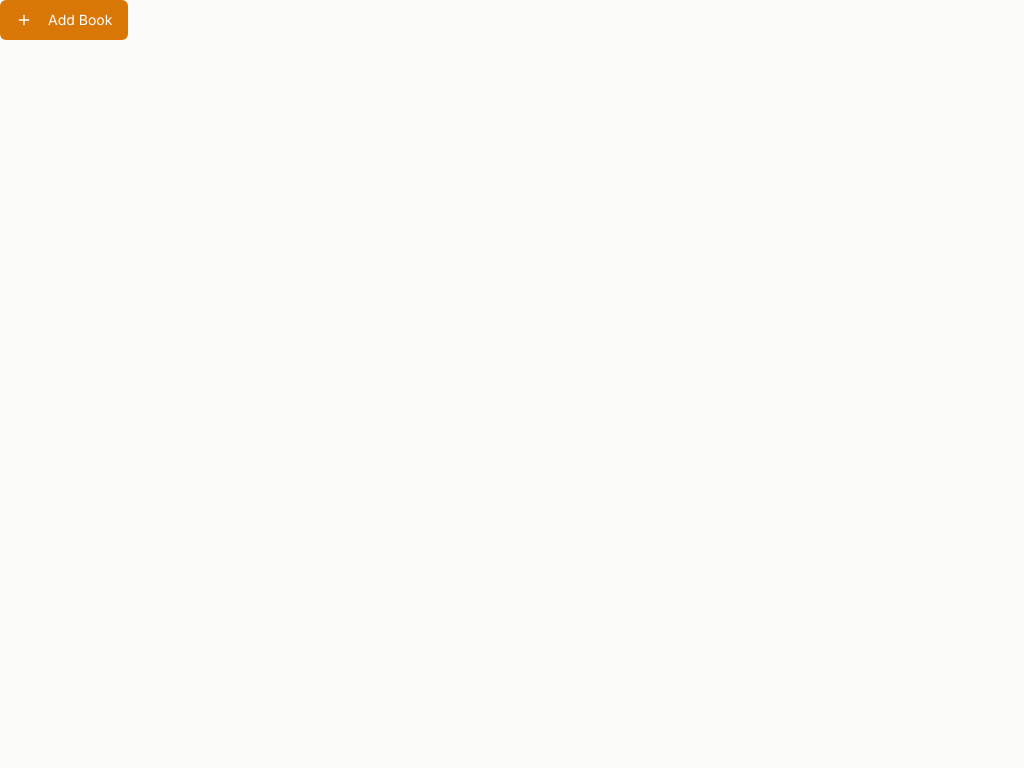
Scenario: AddBookDialog › opens dialog, filters books by search term, and triggers onAddBook
Later steps or results of the test are not shown.
Click the button "Add Book".
click(64, 20)  # box [0,0,128,40]
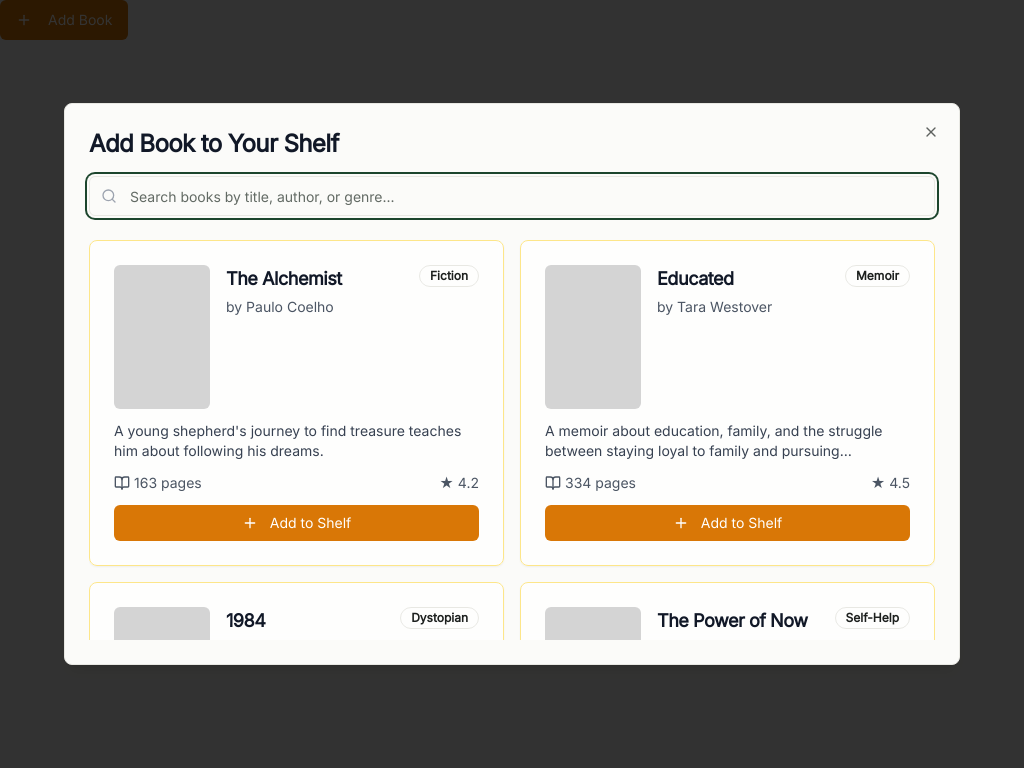
expect the heading "Add Book to Your Shelf" is shown: met, box [89,129,339,158]
expect the heading "The Alchemist" is shown: met, box [226,268,342,289]
Type "1984" into the field with placeholder "Search books by title, author, or genre...".
click(512, 196); type("1984")  # box [89,176,935,216]
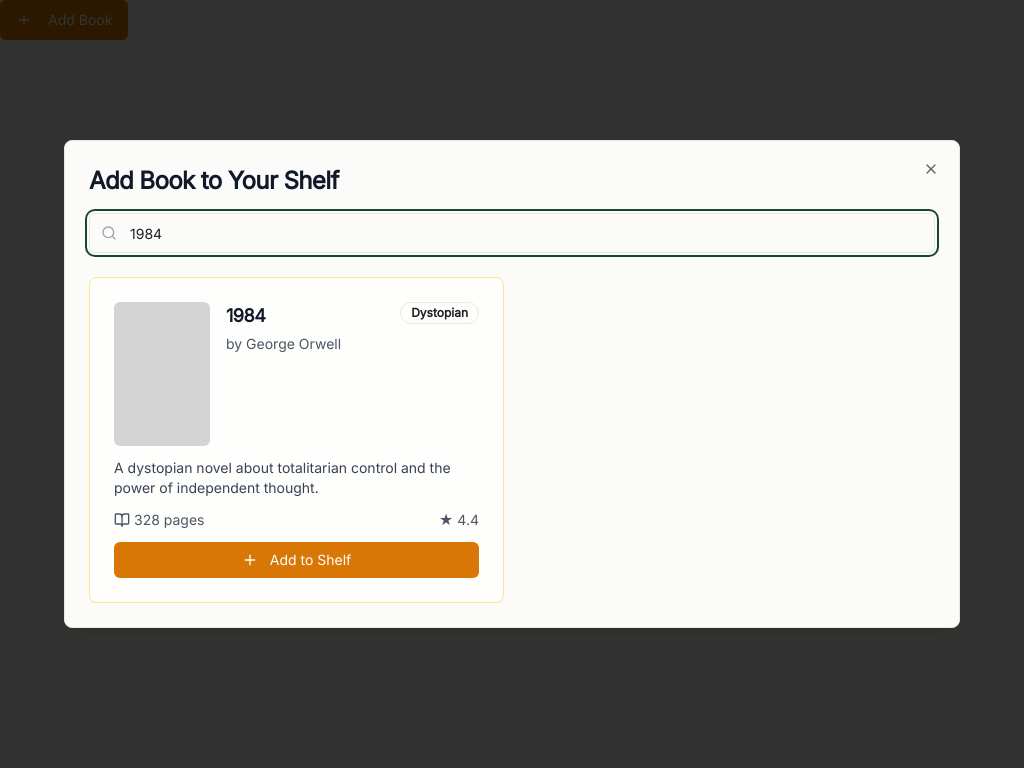
expect the heading "1984" is shown: met, box [226,305,266,326]
expect the heading "The Alchemist" is gone: met
